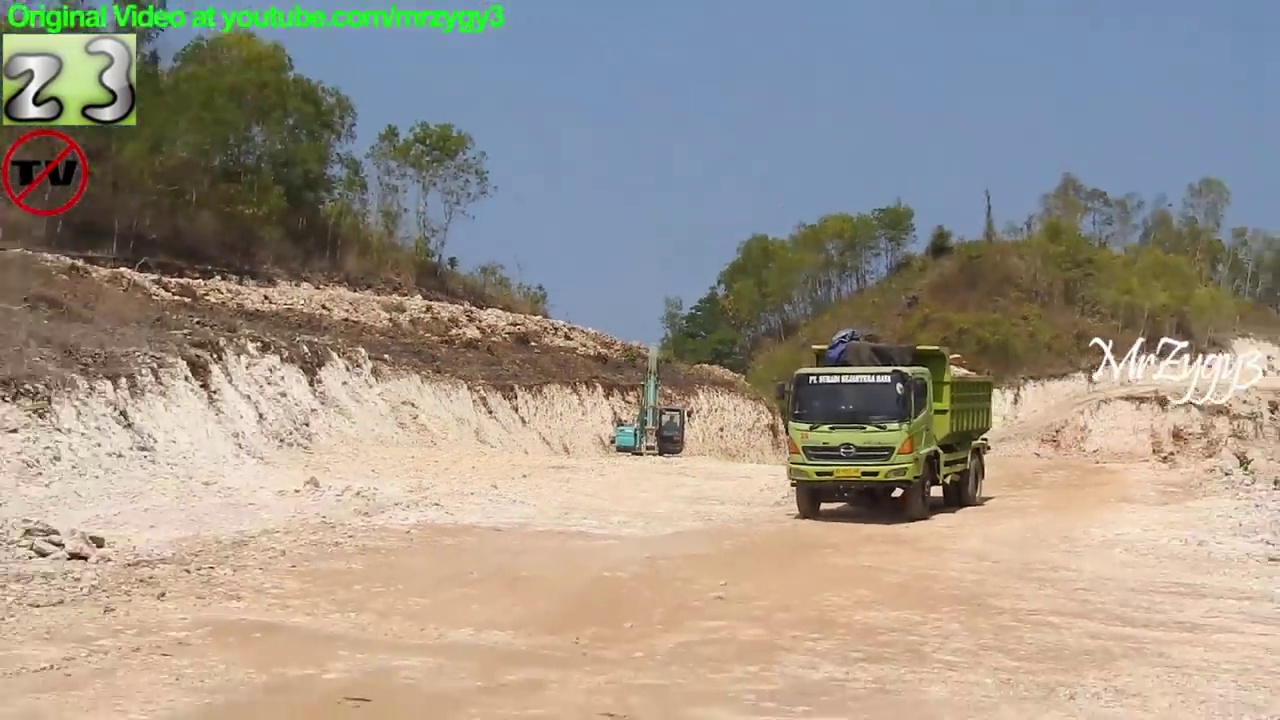excavator: (606, 340, 698, 475)
truck: (771, 338, 1003, 526)
